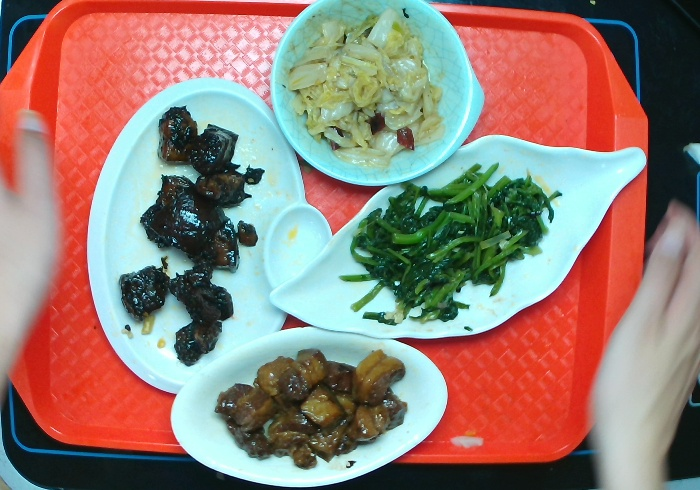RJxy-Bai_Se_Tuo_Yuan: (165, 323, 449, 488)
RJxy-Shu_Ye_Pan: (271, 133, 651, 341)
RJxy-Xiao_Jiao_Yuan_Wan: (266, 1, 484, 188)
RJxy-Zhan_Liao_Pan: (78, 73, 337, 398)
